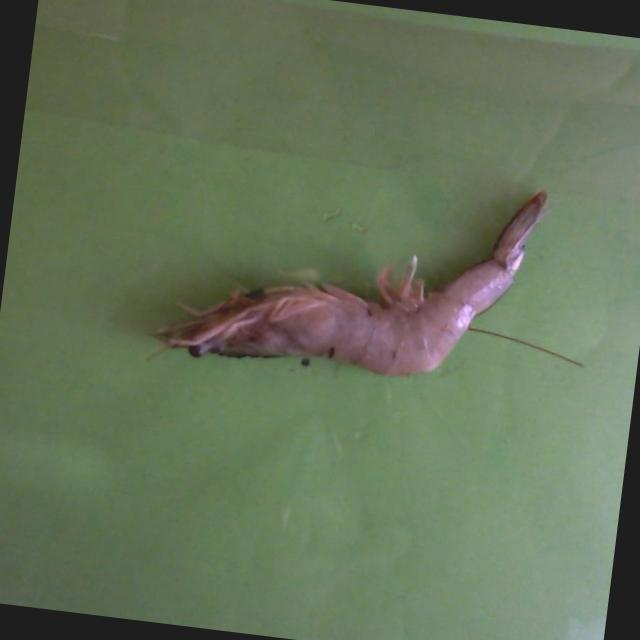shrimp: (153, 190, 546, 374)
